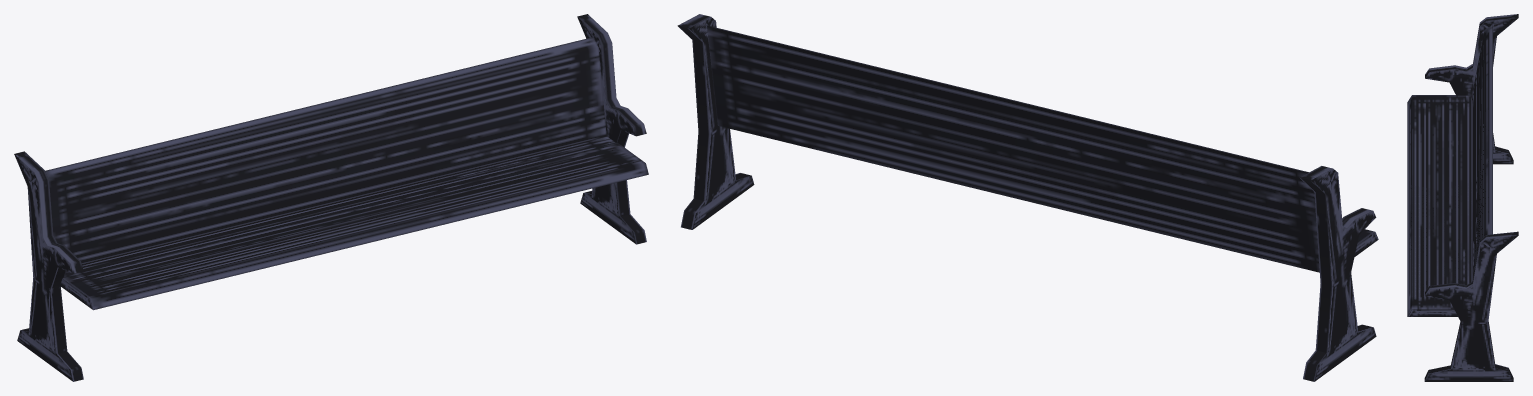
The model's file is bl005d-color.glb.
3 views of the same model, side by side, from view 1: azimuth 30°, elevation 25°; view 2: azimuth 150°, elevation 25°; view 3: azimuth 270°, elevation 25° (orthographic). The views are drawn at different scales.
Visible parts, largest first — view 1: D0_M00, D9_M00; view 2: D0_M00, D9_M00; view 3: D0_M00, D9_M00.
Boxes of the visible parts, x1,y1,x2,y2 form: D0_M00: [14, 14, 648, 381]; D9_M00: [257, 15, 648, 252]; D0_M00: [677, 14, 1378, 381]; D9_M00: [679, 15, 1070, 211]; D0_M00: [1407, 14, 1518, 381]; D9_M00: [1407, 108, 1517, 376].
Bounding box in the file's own units: 3.87 × 1.19 × 0.8209.
Materials: 1 (1 with a texture image).
